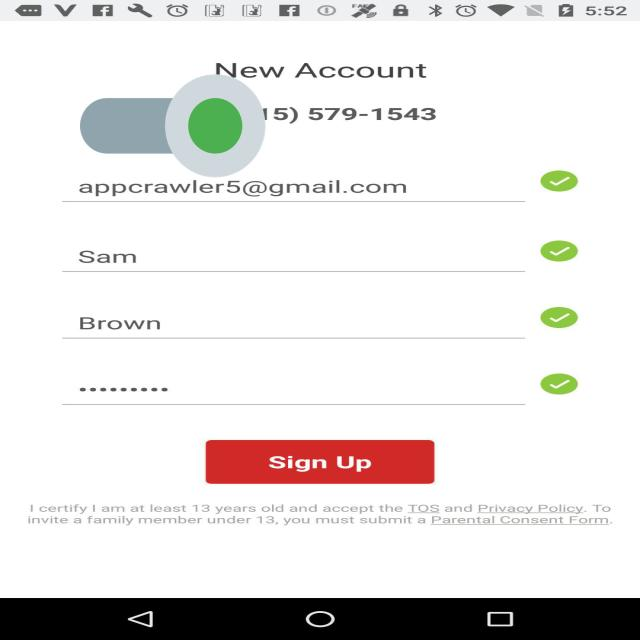social proof: (80, 31, 265, 221)
